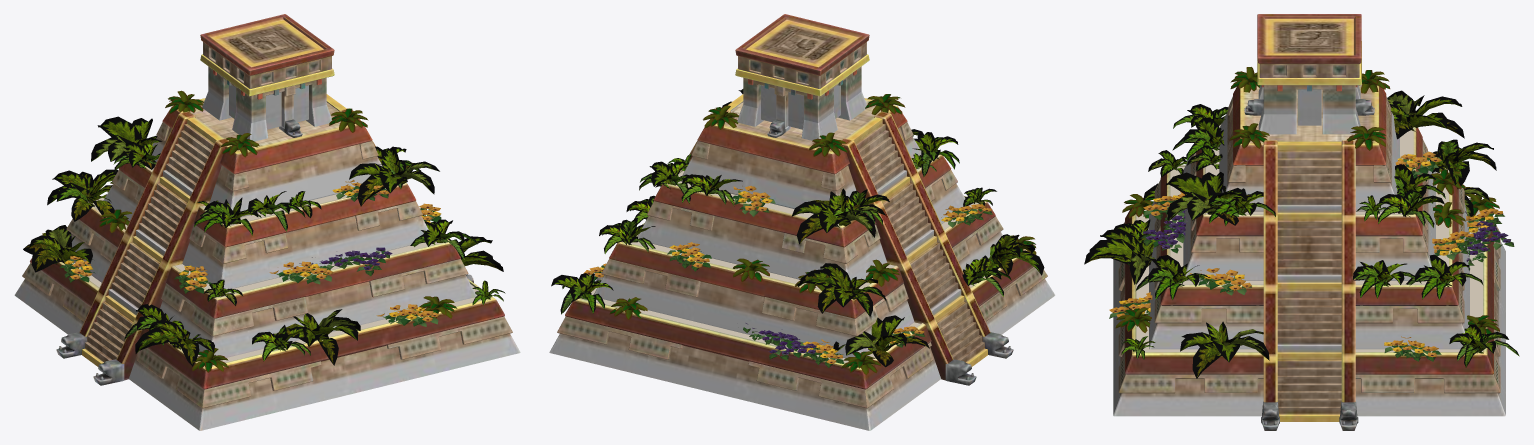
File: 97-wonder-quetzalcoatl.glb
3 renders of one model, left to right at view 1: azimuth 30°, elevation 25°; view 2: azimuth 150°, elevation 25°; view 3: azimuth 270°, elevation 25°, orthographic. The views are drawn at different scales.
Bounding box in the file's own units: 18.14 × 12.9 × 17.08.
10 materials, 9 textured.
